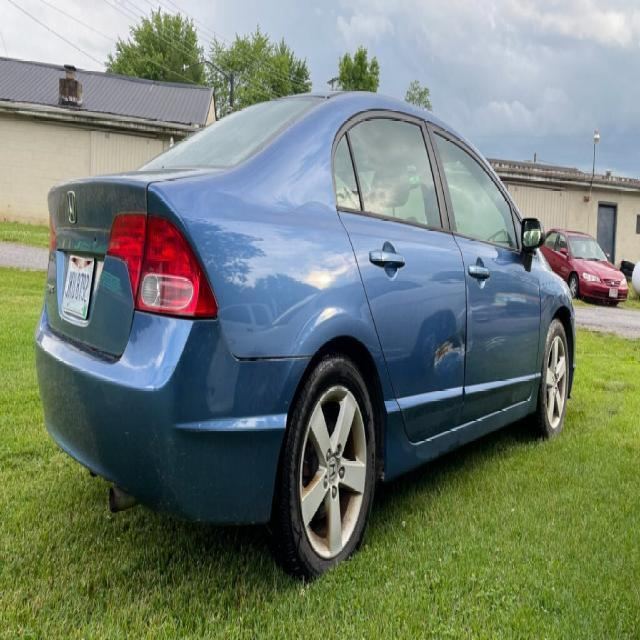scratch: (420, 332, 470, 375)
